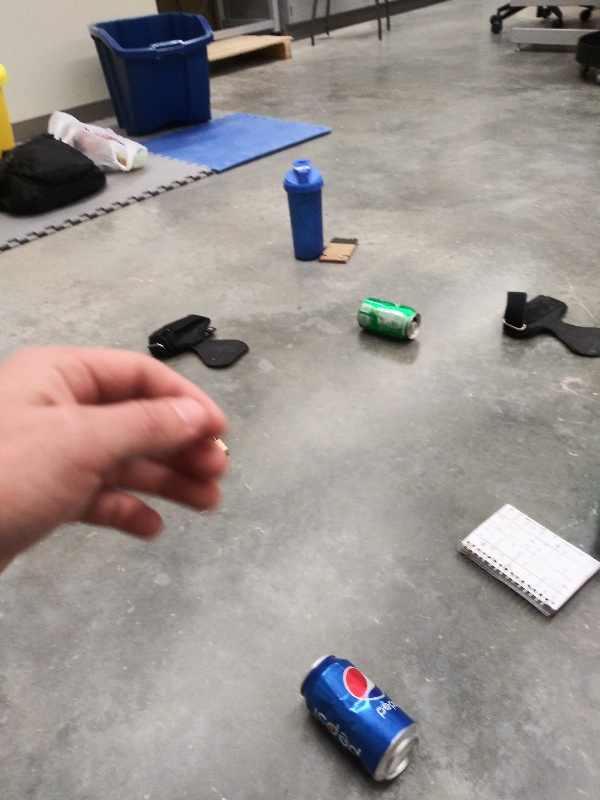can: (297, 650, 426, 788), (355, 294, 425, 348)
